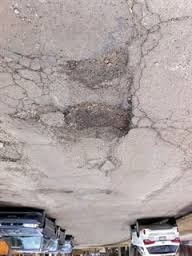pothole: (64, 51, 140, 88), (57, 101, 142, 134), (0, 123, 19, 173), (0, 48, 36, 72), (12, 104, 57, 120)
